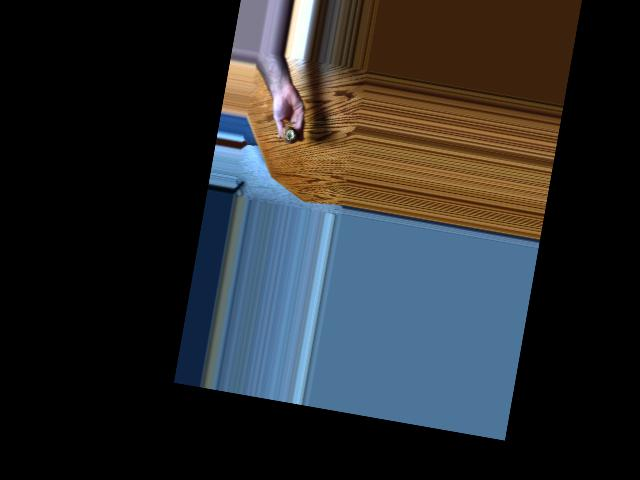sweet_potato: (277, 124, 297, 148)
